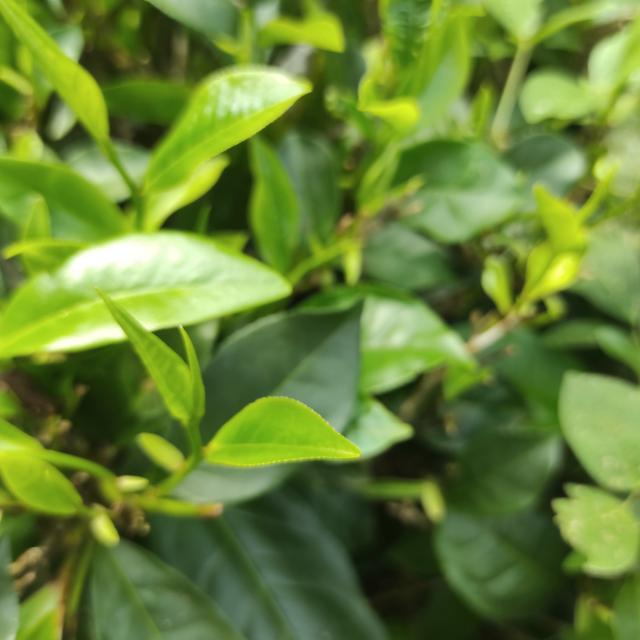unopened_leaf: (169, 321, 218, 435)
